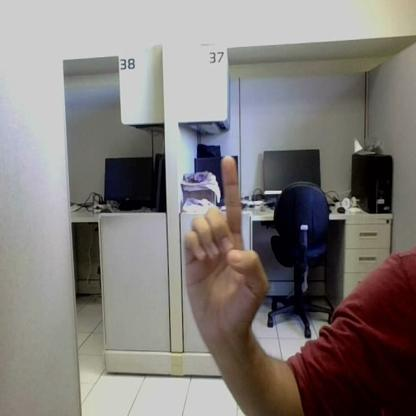D: (184, 155, 269, 331)
